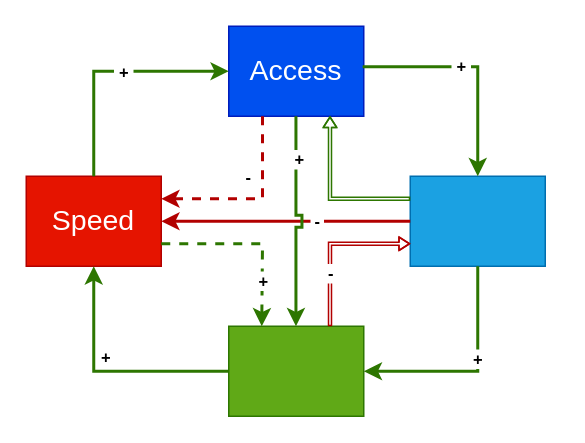
The diagram is 585 pixels wide and 443 high, and some of its shapes have lost their labels. Each missing label, with the centre of its shape:
Activity: the point at 477,220
Money: the point at 295,370
